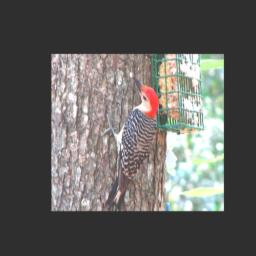Woodpecker: (98, 72, 159, 210)
